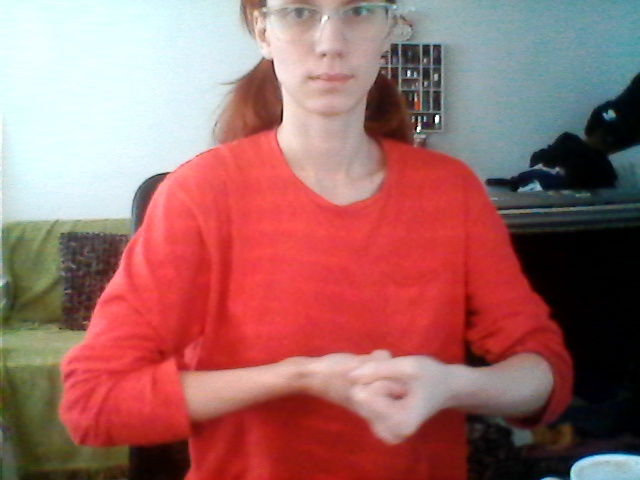hasic: (289, 316, 462, 455)
